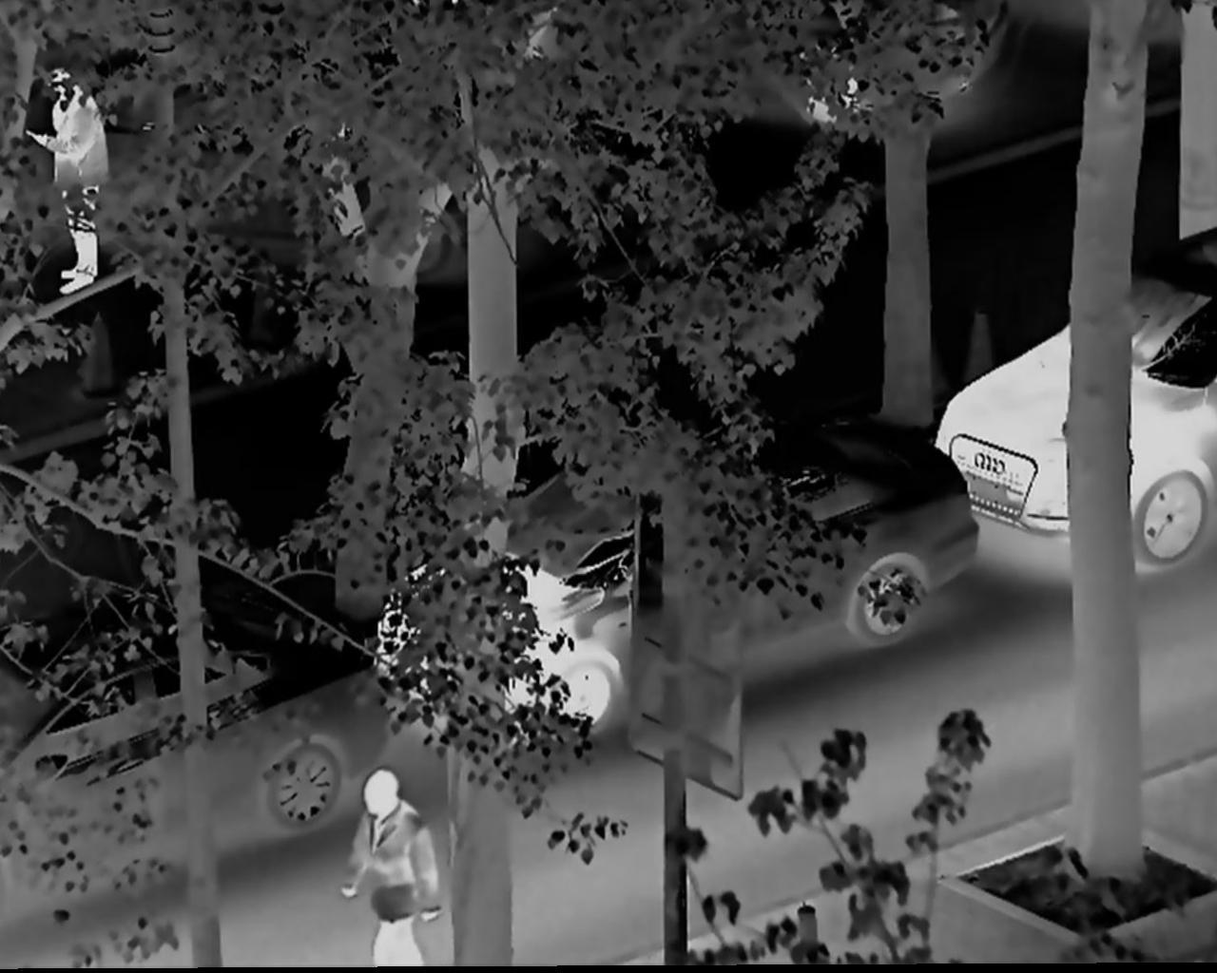person: (324, 762, 460, 963), (24, 61, 115, 292)
